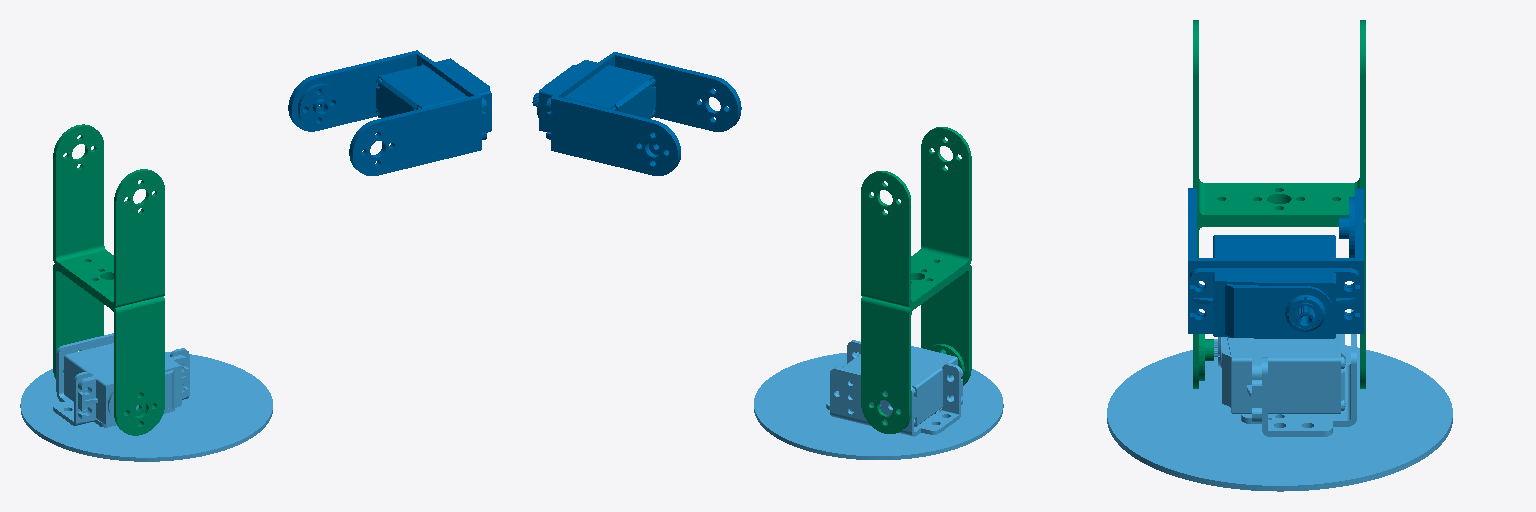
URDF robot description (arm):
<?xml version="1.0"?>
<robot name="arm">
  <link name="base_link">
    <visual>
      <geometry>
        <mesh filename="package://spesbot_description/urdf/meshes/simplified/arm_base.stl" />
      </geometry>
      <origin xyz="0 0 0" rpy="0 0 0" />
    </visual>
  </link>
  <joint name="joint_1" type="revolute">
    <parent link="base_link" />
    <child link="arm_link_1" />
    <origin xyz="0 0 0" rpy="0 0 0" />
    <axis xyz="0 0 1" />
    <limit lower="-1.57" upper="1.57" effort="100" velocity="0.5" />
  </joint>
  <link name="arm_link_1">
    <visual>
      <geometry>
        <mesh filename="package://spesbot_description/urdf/meshes/simplified/arm_link_1.stl" />
      </geometry>
      <origin xyz="0 0 0.01" rpy="0 0 0" />
    </visual>
  </link>
  <joint name="joint_2" type="revolute">
    <parent link="arm_link_1" />
    <child link="arm_link_2" />
    <origin xyz="-0.02 0 0.012" rpy="0 0 0" />
    <axis xyz="0 1 0" />
    <limit lower="-1.57" upper="1.57" effort="100" velocity="0.5" />
  </joint>
  <link name="arm_link_2">
    <visual>
      <geometry>
        <mesh filename="package://spesbot_description/urdf/meshes/simplified/arm_link_2.stl" />
      </geometry>
      <origin xyz="0 0 0" rpy="0 0 0" />
    </visual>
  </link>
  <joint name="joint_3" type="revolute">
    <parent link="arm_link_2" />
    <child link="arm_link_3" />
    <origin xyz="0 0 0.1" rpy="0 0 0" />
    <axis xyz="0 1 0" />
    <limit lower="-1.57" upper="1.57" effort="100" velocity="0.5" />
  </joint>
  <link name="arm_link_3">
    <visual>
      <geometry>
        <mesh filename="package://spesbot_description/urdf/meshes/simplified/arm_link_3.stl" />
      </geometry>
      <origin xyz="0 0 0" rpy="0 0 0" />
    </visual>
  </link>
  <joint name="joint_4" type="revolute">
    <parent link="arm_link_3" />
    <child link="arm_link_4" />
    <origin xyz="0.12 0 0" rpy="0 0 0" />
    <axis xyz="0 1 0" />
    <limit lower="-1.57" upper="1.57" effort="100" velocity="0.5" />
  </joint>
  <link name="arm_link_4">
    <visual>
      <geometry>
        <mesh filename="package://spesbot_description/urdf/meshes/simplified/arm_link_4.stl" />
      </geometry>
      <origin xyz="0 0 0" rpy="0 0 0" />
    </visual>
  </link>
  <joint name="joint_5" type="revolute">
    <parent link="arm_link_4" />
    <child link="arm_link_5" />
    <origin xyz="0.04 0 0" rpy="0 0 0" />
    <axis xyz="1 0 0" />
    <limit lower="-1.57" upper="1.57" effort="100" velocity="0.5" />
  </joint>
  <link name="arm_link_5">
    <visual>
      <geometry>
        <mesh filename="package://spesbot_description/urdf/meshes/simplified/gripper.stl" />
      </geometry>
      <origin xyz="0 0 0" rpy="0 0 0" />
    </visual>
  </link>
</robot>

--- Render facts (derived) ---
Views: 3 orthographic renders of the robot side by side, from view 1: azimuth 30°, elevation 25°; view 2: azimuth 150°, elevation 25°; view 3: azimuth 270°, elevation 25°.
Robot: arm — 6 links, 5 joints (5 revolute); root link base_link; default pose: all joints at 0.
Visible links, largest first — view 1: arm_link_2, arm_link_1, arm_link_4; view 2: arm_link_2, arm_link_1, arm_link_4; view 3: arm_link_1, arm_link_4, arm_link_2.
Link boxes in pixels (left/top/right/bottom): arm_link_2: left=53, top=124, right=164, bottom=435; arm_link_1: left=20, top=333, right=272, bottom=461; arm_link_4: left=288, top=50, right=491, bottom=175; arm_link_2: left=861, top=127, right=971, bottom=433; arm_link_1: left=754, top=340, right=1003, bottom=459; arm_link_4: left=532, top=52, right=741, bottom=175; arm_link_1: left=1107, top=309, right=1452, bottom=491; arm_link_4: left=1188, top=188, right=1363, bottom=338; arm_link_2: left=1193, top=20, right=1365, bottom=388.
Bounding box of the posed robot: 0.2288 × 0.112 × 0.1318 m (x, y, z).
3 mesh visuals loaded from 6 distinct referenced files (3 binary STL); not drawn: 3 (reference not matched to a file when rendering).